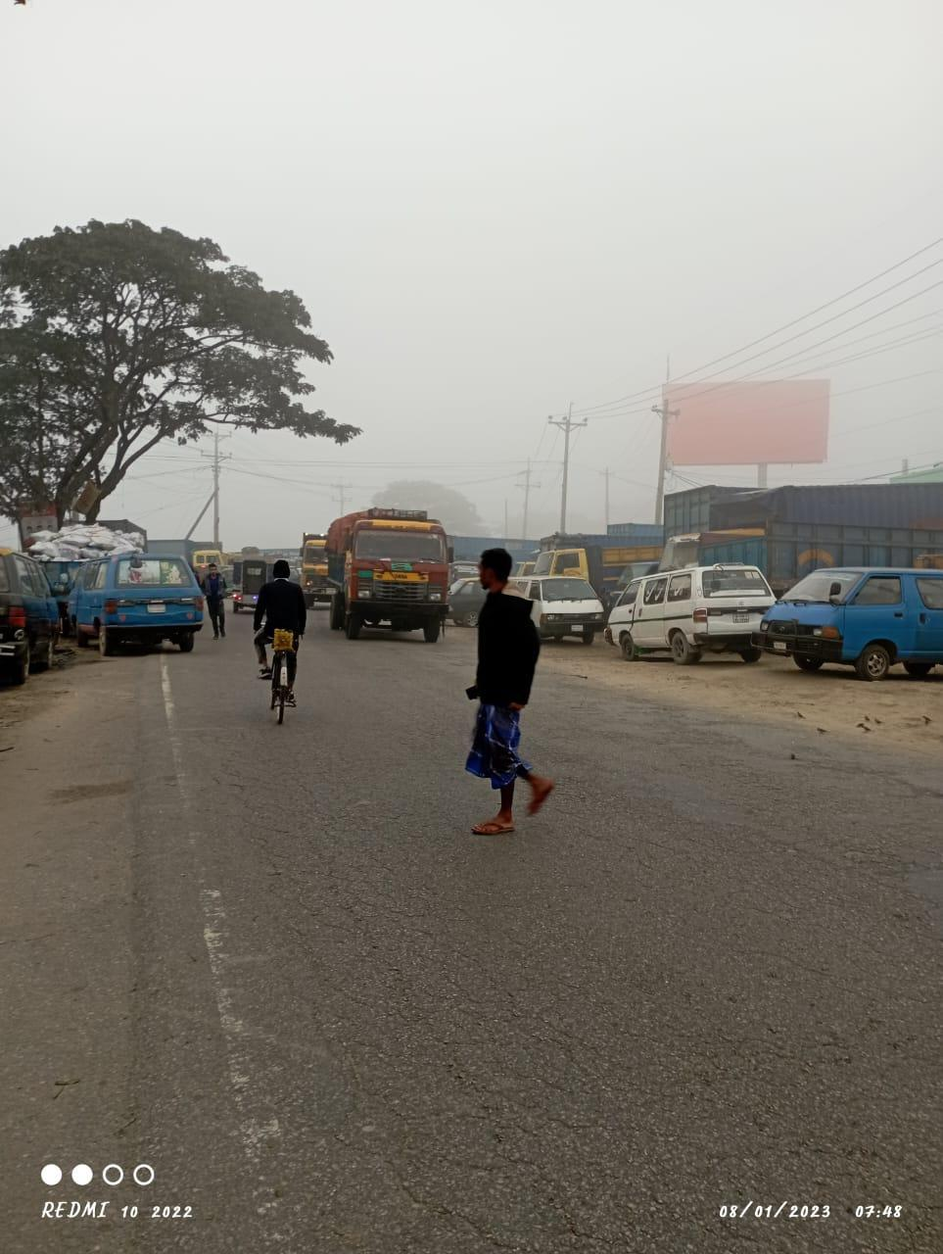Car: (745, 563, 941, 686), (597, 560, 773, 666), (67, 538, 205, 665), (1, 532, 65, 691), (503, 565, 612, 654), (230, 555, 276, 625)
Truck: (326, 497, 455, 648)
